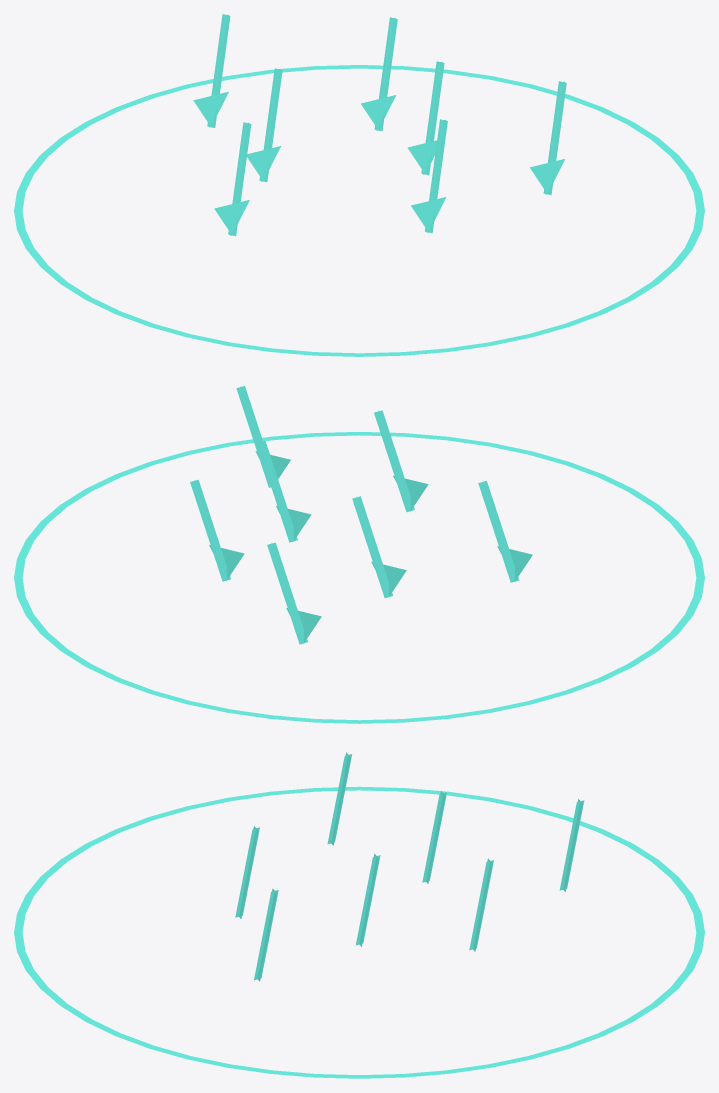
File: runner.glb
3 views of the same model, one above another, from view 1: azimuth 30°, elevation 25°; view 2: azimuth 150°, elevation 25°; view 3: azimuth 270°, elevation 25° (orthographic).
Visible parts, largest first — view 1: runner_ultimate; view 2: runner_ultimate; view 3: runner_ultimate.
Part boxes in pixels (x1,y1,x2,y2): runner_ultimate: (14, 14, 704, 356); runner_ultimate: (14, 386, 704, 723); runner_ultimate: (14, 752, 704, 1078).
Size of the model in its own units: 2 by 0.3887 by 2.
